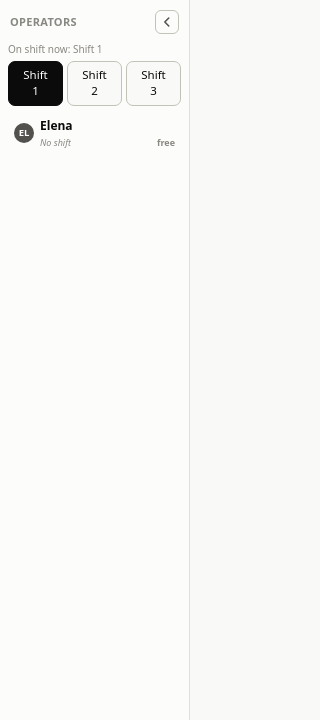
it: OperatorPanel: the shift chips and the shift-based default list (S66-c, R-448) › SC-4: clicking it again removes it -- 'they stay until clicked again'
Click the button "Shift 2" at [94, 83], box [67,60,122,106]
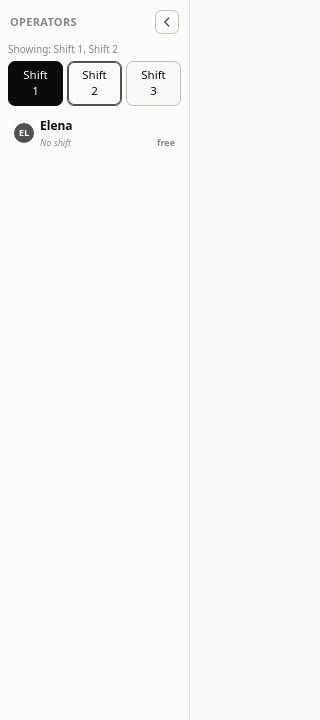
Click the button "Shift 2" at [94, 83], box [67,60,122,106]
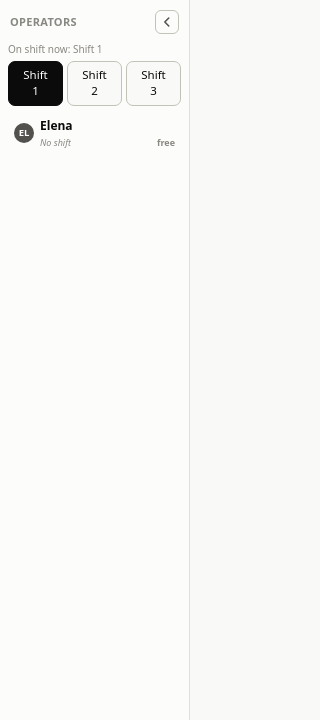
expect the text "On shift now: Shift 1" is shown: met, box [8,42,103,56]
